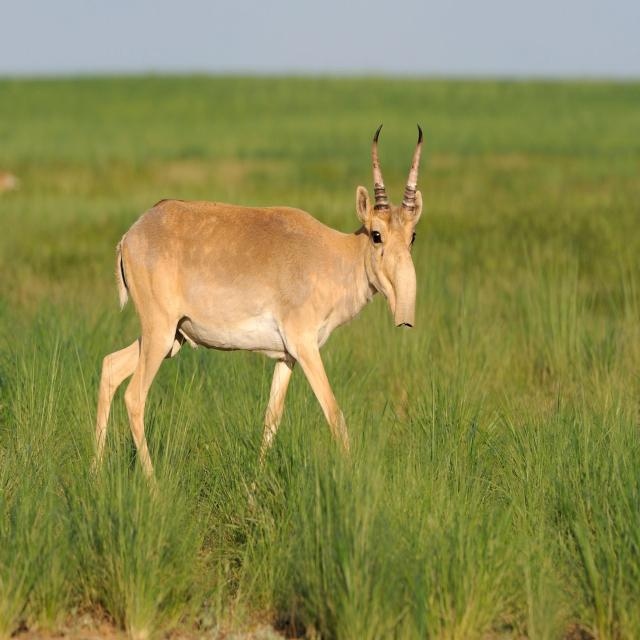Antelope: (88, 119, 426, 474)
